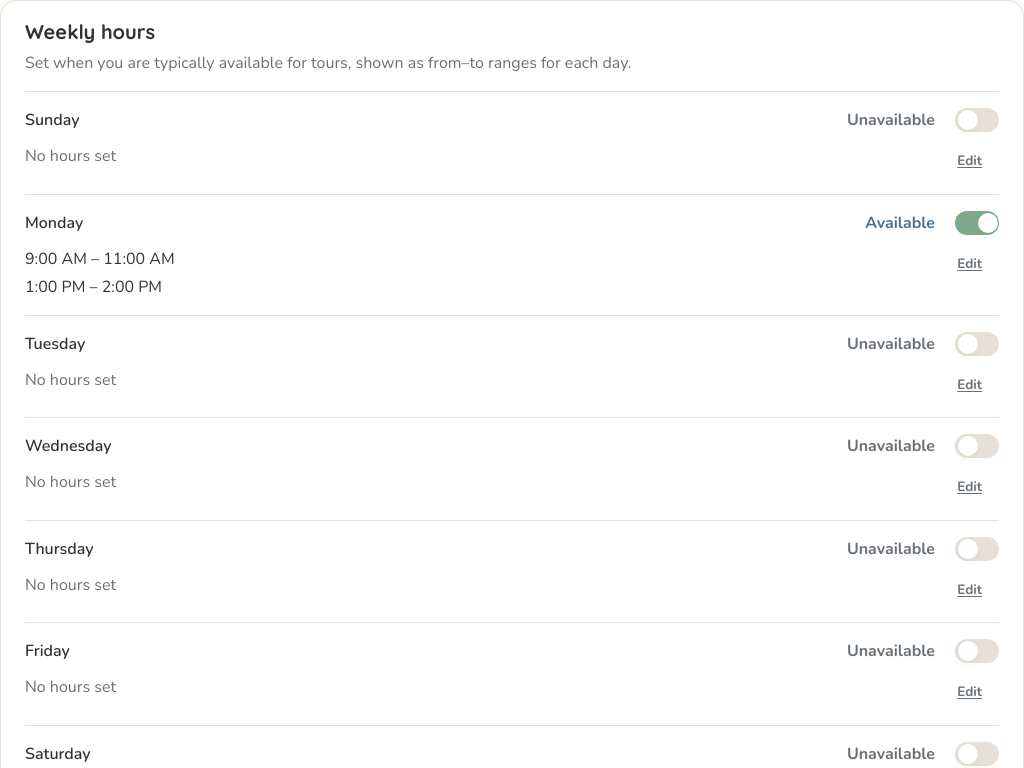
it: WeeklyHoursPanel — Edit opens DayHoursModal prefilled with from–to › prefills the modal's from/to pickers with the day's existing ranges
Click the button with aria-label "Edit Monday hours" at (970, 263), box [940,246,999,280]
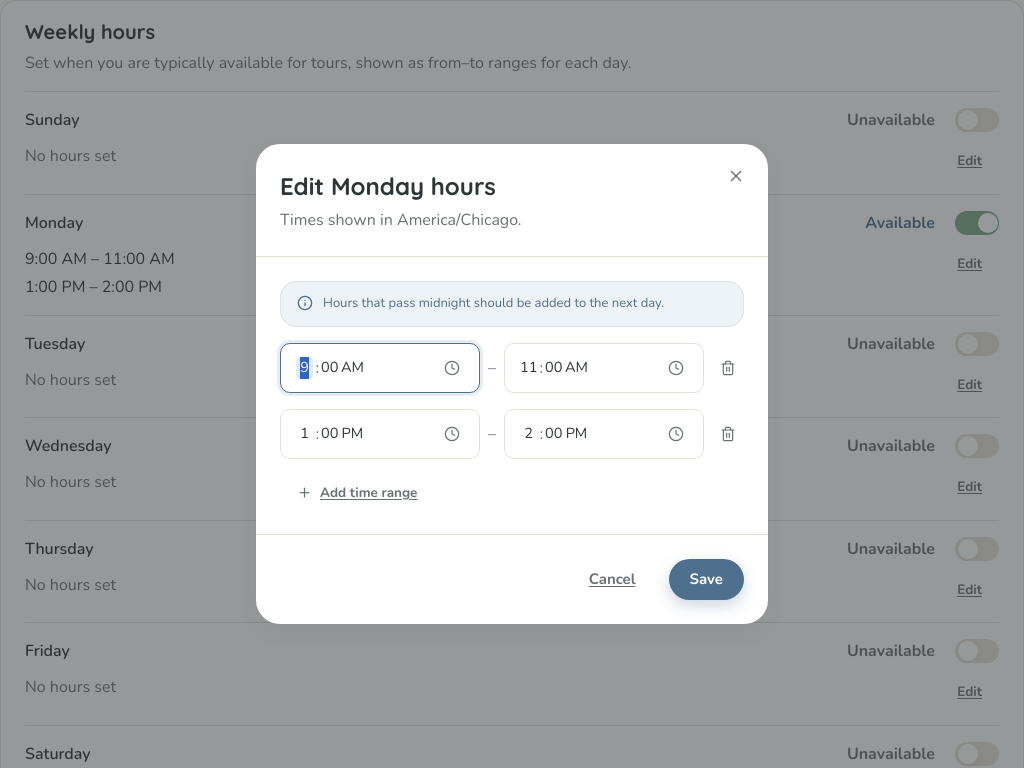
Check: the heading "Edit Monday hours" is shown, box [280,171,496,201]
Check: the field named "Range 1 from hour" holds "9", box [296,357,313,379]
Check: the field named "Range 1 from AM/PM" holds "AM", box [340,357,364,379]
